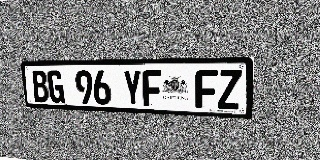6: (92, 70, 112, 105)
9: (75, 70, 94, 104)
B: (31, 70, 50, 103)
F: (196, 69, 218, 109), (142, 70, 162, 107)
G: (46, 70, 65, 103)
Y: (122, 70, 143, 106)
Z: (218, 69, 242, 110)
